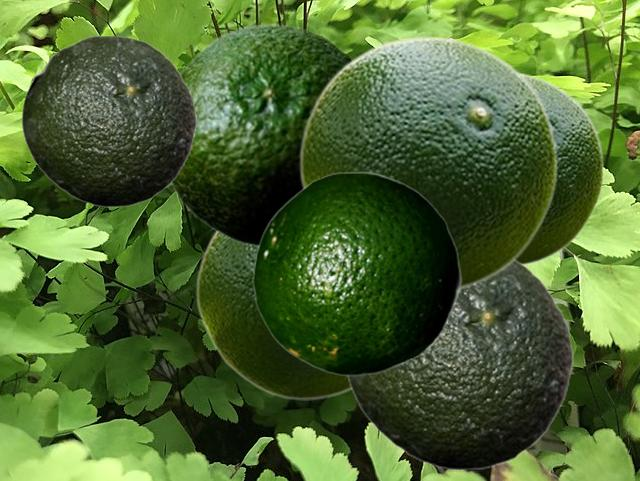calamansi: (298, 35, 558, 292), (344, 259, 573, 469), (252, 171, 461, 375), (170, 23, 352, 247), (21, 35, 196, 206), (195, 231, 351, 399), (518, 71, 604, 266)
